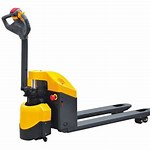Pallet Jack: (1, 7, 150, 142)
